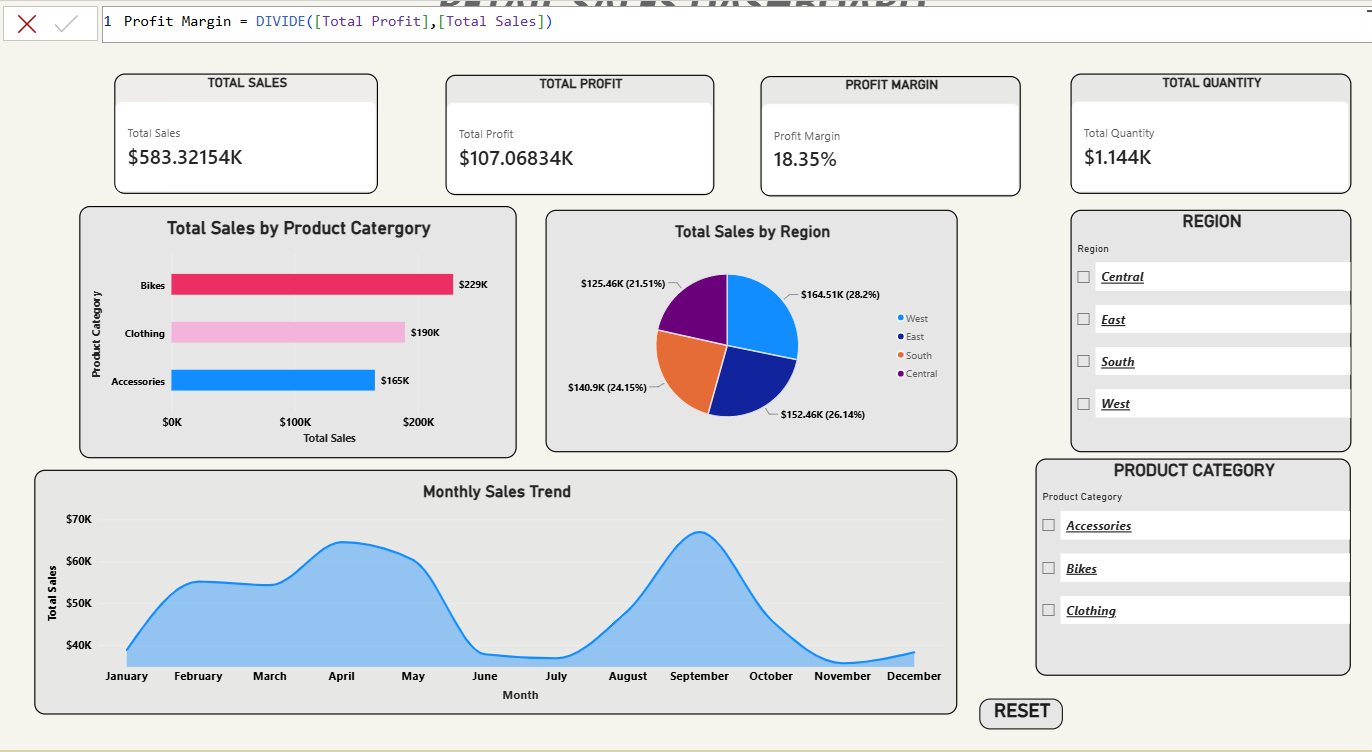

The page's visual inventory and layout, read from the dashboard file:
{"tool":"powerbi","page":{"name":"Page 1","canvas":[1920,1080],"ordinal":0},"visuals":[{"type":"textbox","box":[612.2,0,727.3,87.2],"z":0},{"type":"cardVisual","title":"TOTAL SALES","fields":{"Data":["Sheet1.Total Sales"]},"box":[161.7,136.7,368.3,168.3],"z":1},{"type":"cardVisual","title":"TOTAL PROFIT","fields":{"Data":["Sheet1.Total Profit"]},"box":[625,138.3,375,168.3],"z":2},{"type":"cardVisual","title":"PROFIT MARGIN","fields":{"Data":["Sheet1.Profit Margin"]},"box":[1063.3,140,363.3,168.3],"z":3},{"type":"cardVisual","title":"TOTAL QUANTITY","fields":{"Data":["Sheet1.Total Quantity"]},"box":[1496.7,136.7,391.7,168.3],"z":4},{"type":"clusteredBarChart","title":"Total Sales by Product Catergory","fields":{"Category":["Sheet1.Product Category"],"Y":["Sheet1.Total Sales"]},"box":[113.3,321.7,610,351.7],"z":5},{"type":"pieChart","title":"Total Sales by Region","fields":{"Category":["Sheet1.Region"],"Y":["Sheet1.Total Sales"]},"box":[763.3,326.7,575,338.3],"z":6},{"type":"areaChart","title":"Monthly Sales Trend","fields":{"Category":["Sheet1.Order Date.Variation.Date Hierarchy.Month"],"Y":["Sheet1.Total Sales"]},"box":[50,688.3,1288.3,341.7],"z":7},{"type":"slicer","title":"PRODUCT CATEGORY","fields":{"Values":["Sheet1.Product Category"]},"box":[1448.3,673.3,440,303.3],"z":9},{"type":"actionButton","title":"RESET","box":[1368.3,1008.3,116.7,43.3],"z":10},{"type":"slicer","title":"REGION","fields":{"Values":["Sheet1.Region"]},"box":[1497,327,392,338],"z":11}]}

Visuals, with their boxes in screenshot pixels (x1, y1, x2, y2):
textbox: 435 0 951 37
"TOTAL SALES" cardVisual: 115 72 376 192
"TOTAL PROFIT" cardVisual: 444 73 710 193
"PROFIT MARGIN" cardVisual: 755 74 1013 194
"TOTAL QUANTITY" cardVisual: 1063 72 1341 192
"Total Sales by Product Catergory" clusteredBarChart: 80 203 514 453
"Total Sales by Region" pieChart: 542 207 951 447
"Monthly Sales Trend" areaChart: 36 464 951 707
"PRODUCT CATEGORY" slicer: 1029 453 1341 669
"RESET" actionButton: 972 691 1055 722
"REGION" slicer: 1063 207 1342 447
